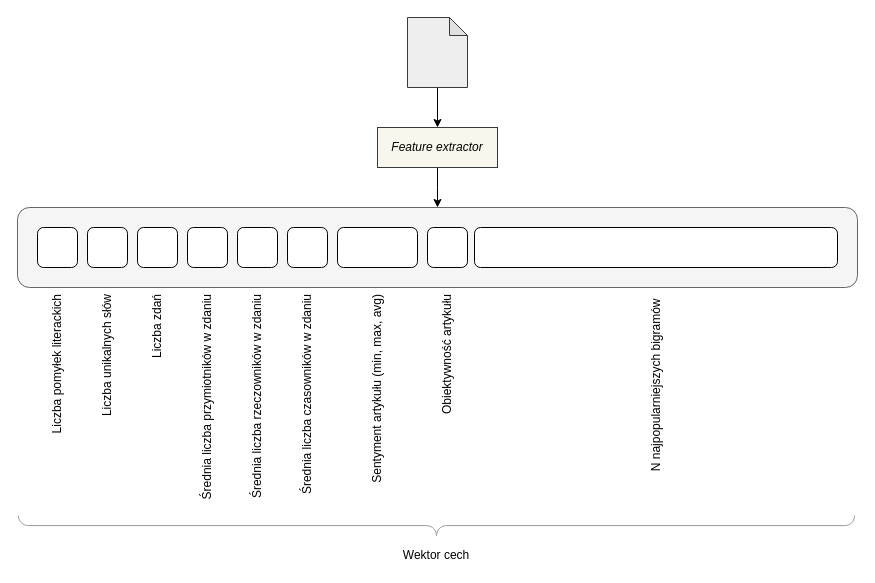
This 875x583 diagram has some shape labels left out. Here are the shapes that lost their labels. From the top down, the box of each, then its label:
(406, 16, 468, 88): Artykuł
(474, 226, 838, 268): * największa z cech, stanowi największy procent wektora
